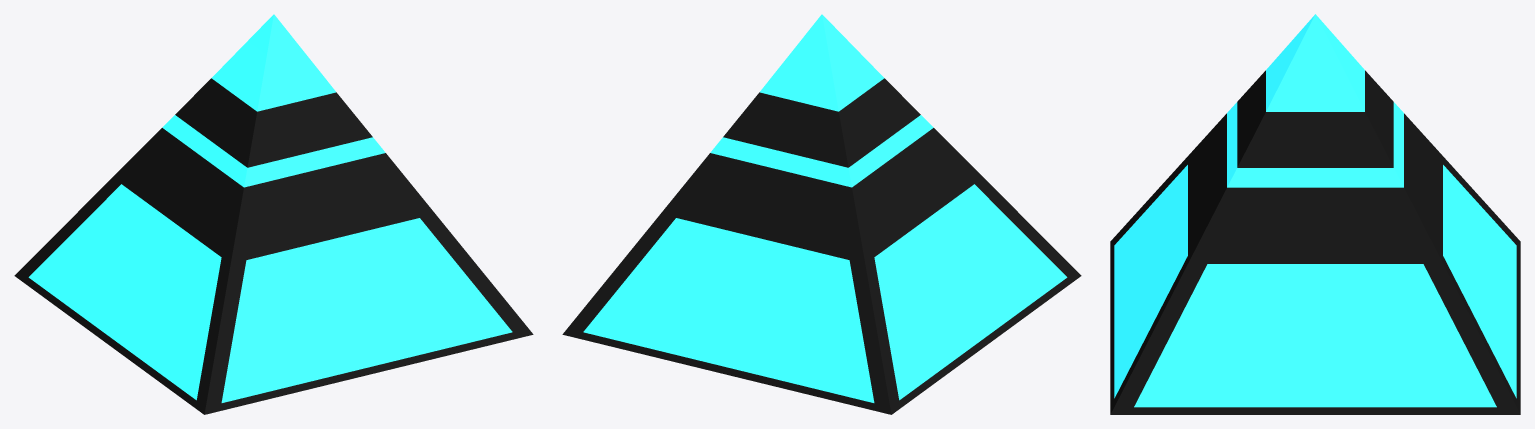
Rendered from ETC0110001.fbx.
3 views of the same model, side by side, from view 1: azimuth 30°, elevation 25°; view 2: azimuth 150°, elevation 25°; view 3: azimuth 270°, elevation 25° (orthographic). The views are drawn at different scales.
Parts seen in each view (by area): view 1: smETC0110001; view 2: smETC0110001; view 3: smETC0110001.
Part boxes in pixels (x1,y1,x2,y2): smETC0110001: [14, 14, 533, 414]; smETC0110001: [562, 14, 1081, 414]; smETC0110001: [1110, 14, 1520, 414].
Bounding box in the file's own units: 473 × 400 × 473.
1 material, 1 textured.
